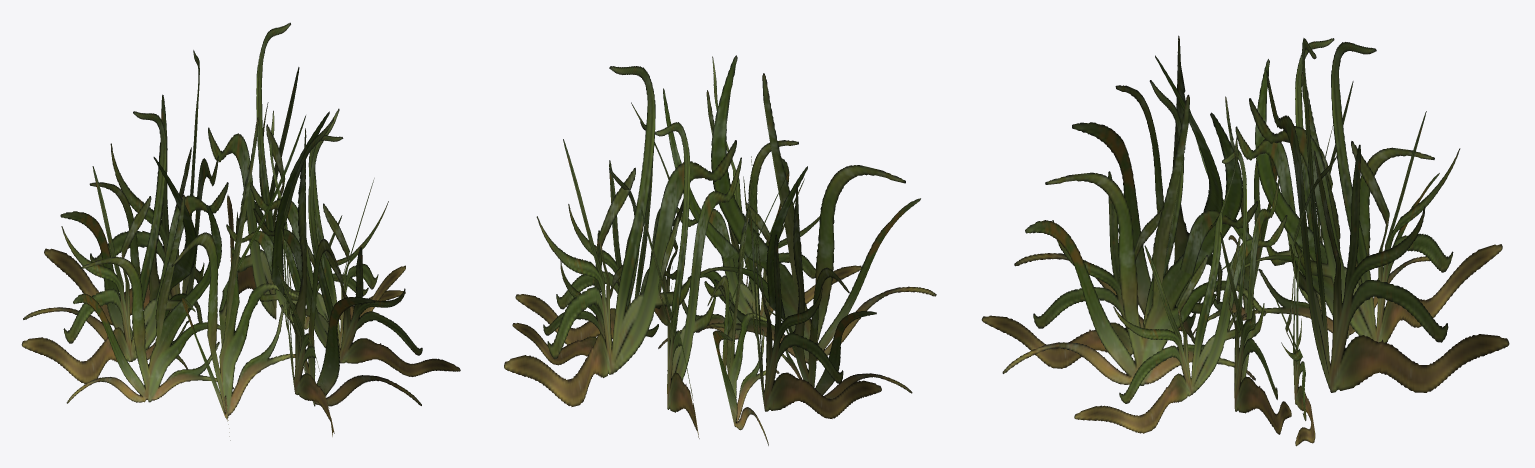
File: Grass_Tall.fbx
3 views of the same model, side by side, from view 1: azimuth 30°, elevation 25°; view 2: azimuth 150°, elevation 25°; view 3: azimuth 270°, elevation 25° (orthographic). The views are drawn at different scales.
Visible parts, largest first — view 1: Grass_Tall; view 2: Grass_Tall; view 3: Grass_Tall.
Part boxes in pixels (left/top/right/bottom): Grass_Tall: left=21, top=22, right=460, bottom=440; Grass_Tall: left=504, top=55, right=936, bottom=445; Grass_Tall: left=981, top=35, right=1509, bottom=446.
Bounding box in the file's own units: 0.7489 × 0.6 × 0.8.
1 material, 1 textured.
